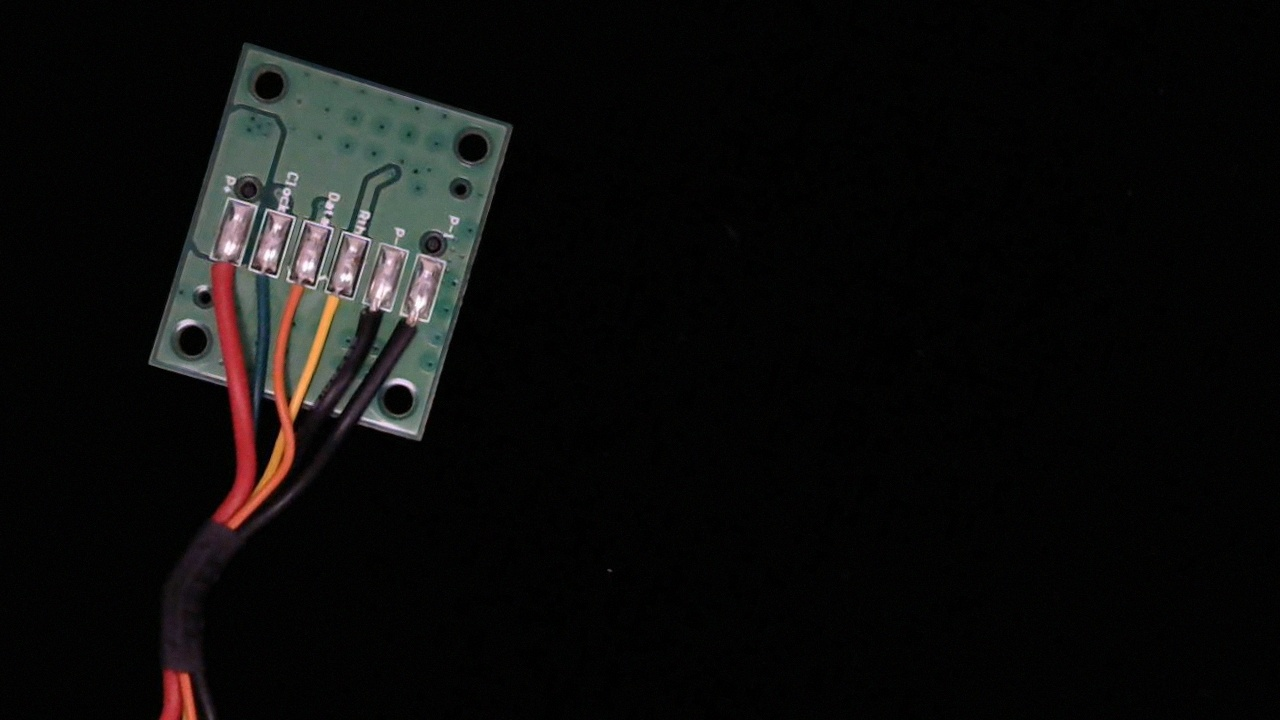Black: (346, 289, 393, 360)
Black1: (386, 300, 433, 367)
Green: (233, 254, 282, 322)
Orange: (269, 267, 318, 338)
Red: (196, 245, 246, 310)
Yellow: (307, 278, 357, 346)
